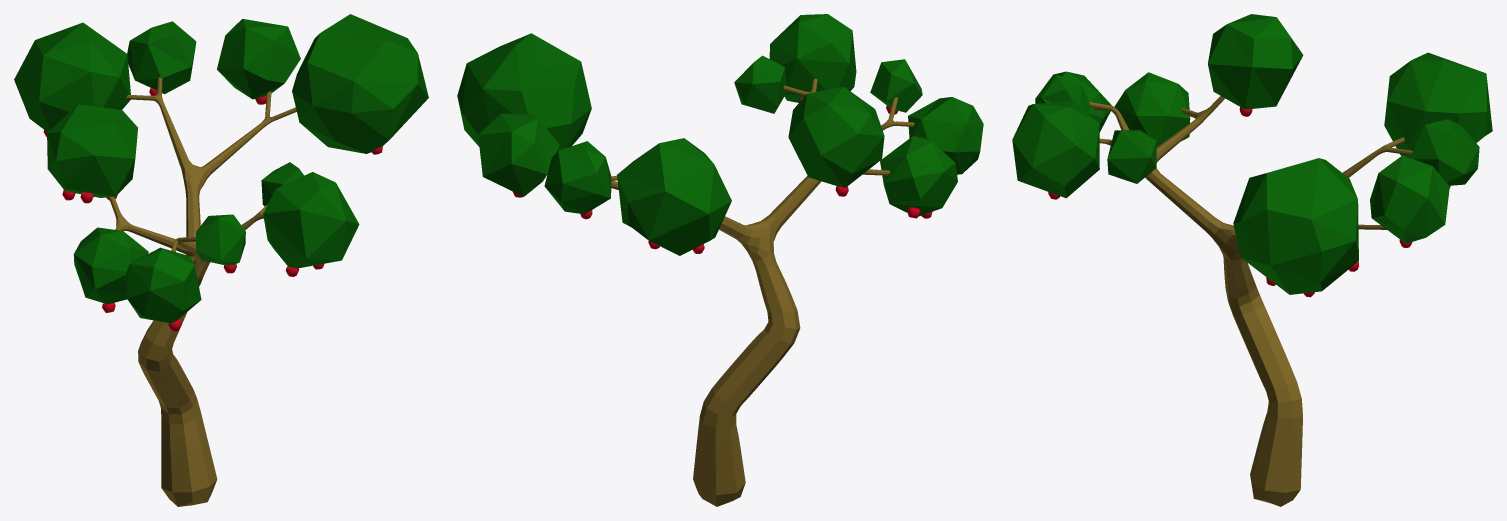
File: apple_tree.fbx
3 renders of one model, left to right at view 1: azimuth 30°, elevation 25°; view 2: azimuth 150°, elevation 25°; view 3: azimuth 270°, elevation 25°, orthographic.
Parts seen in each view (by area): view 1: Cube; view 2: Cube; view 3: Cube.
Boxes of the visible parts, x1,y1,x2,y2 form: Cube: (14, 14, 428, 506); Cube: (457, 14, 983, 506); Cube: (1012, 14, 1492, 506).
Bounding box in the file's own units: 100 × 100 × 100.
